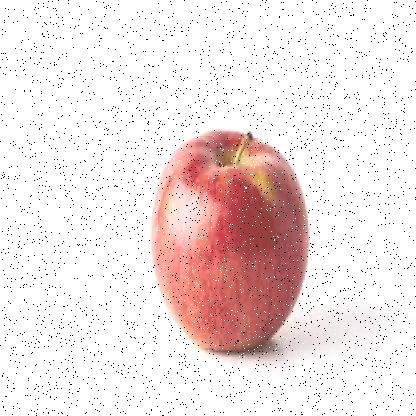apple: (140, 121, 310, 352)
